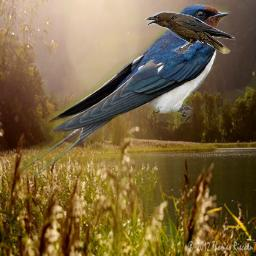Crow: (144, 10, 236, 54)
Swallow: (20, 4, 231, 180)
